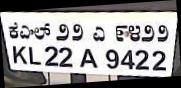character: (80, 48, 97, 68), (104, 48, 119, 69), (152, 49, 166, 71), (12, 45, 27, 65), (120, 49, 135, 69), (44, 45, 58, 66), (59, 46, 73, 67), (135, 49, 149, 70), (28, 45, 41, 65)
